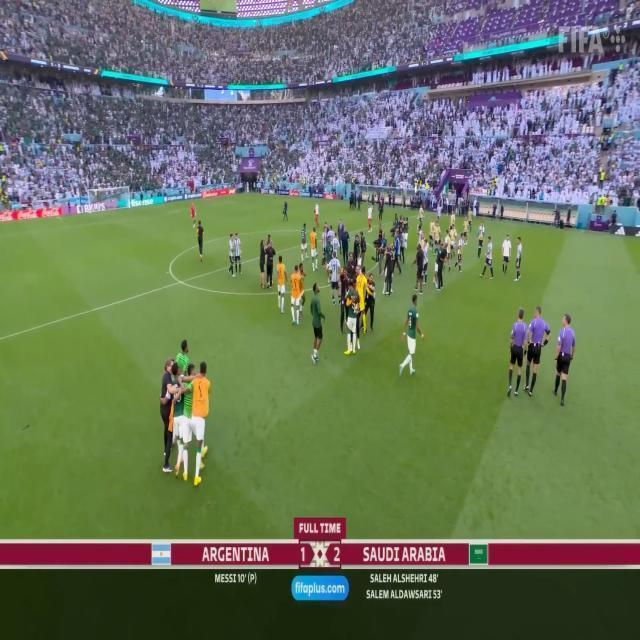player: (400, 291, 426, 381), (172, 358, 183, 477), (311, 280, 324, 365), (185, 365, 194, 483), (346, 281, 359, 358)
